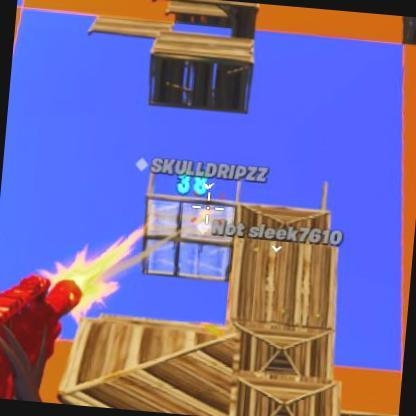person: (0, 274, 83, 403)
